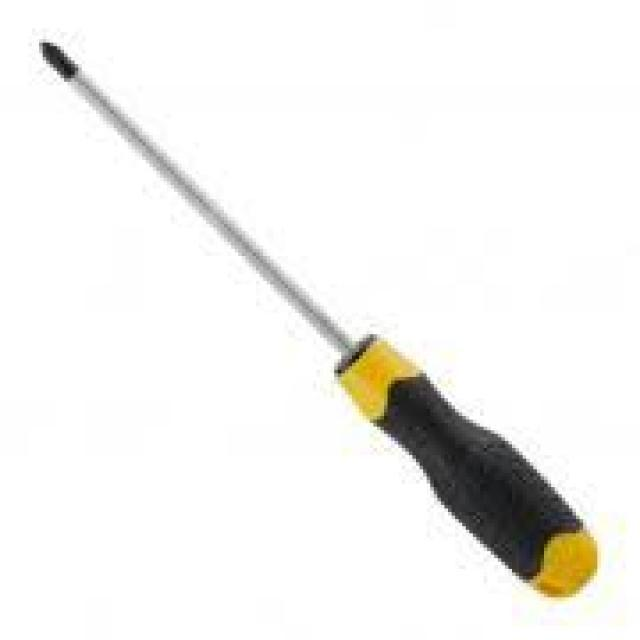screwdriver: (30, 39, 599, 601)
